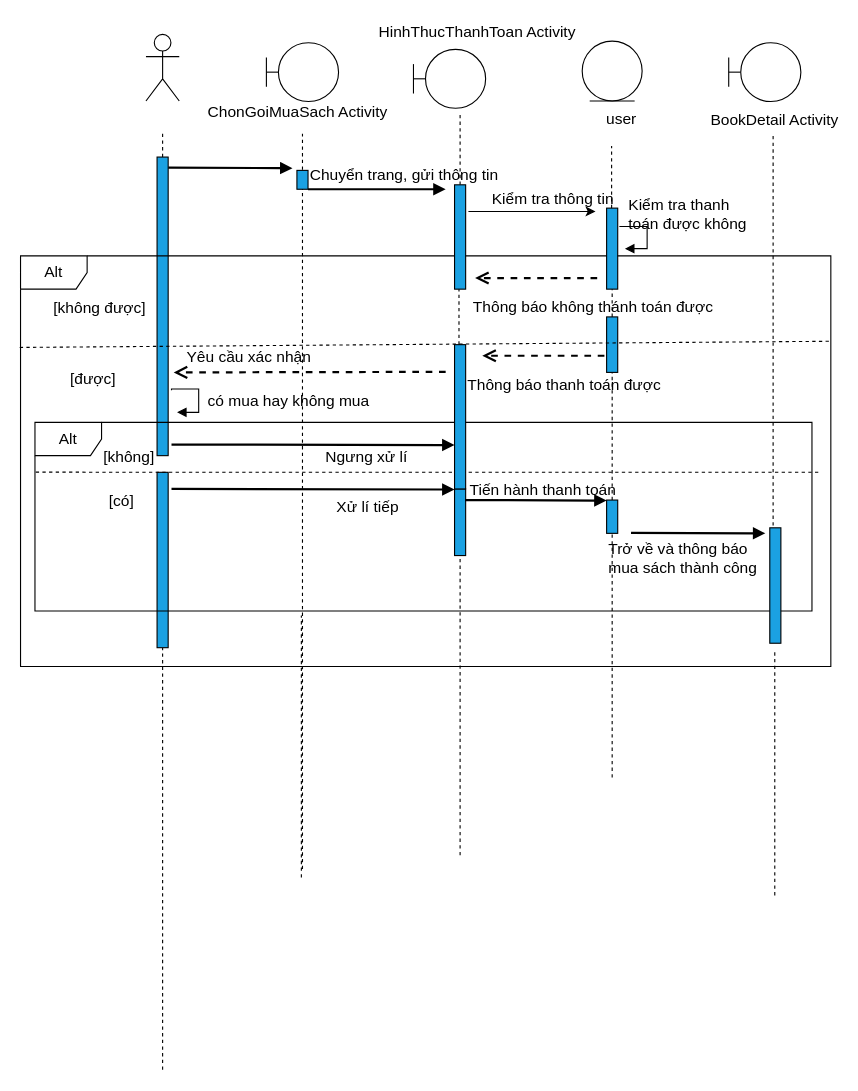
This 858x1091 diagram has some shape labels left out. The shapes that lost their labels are listed below. From the top down, each one's centre as x and y in pixels, then its label:
At point (162, 67): "Người dùng".
At point (245, 150): "Chọn gói thanh toán".
